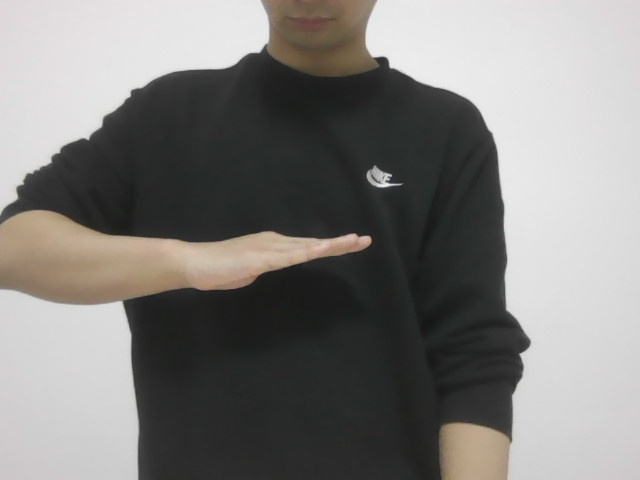safe: (172, 223, 378, 300)
